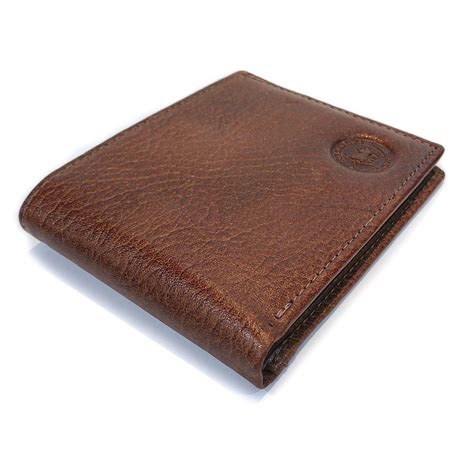cuero: (18, 70, 447, 391)
